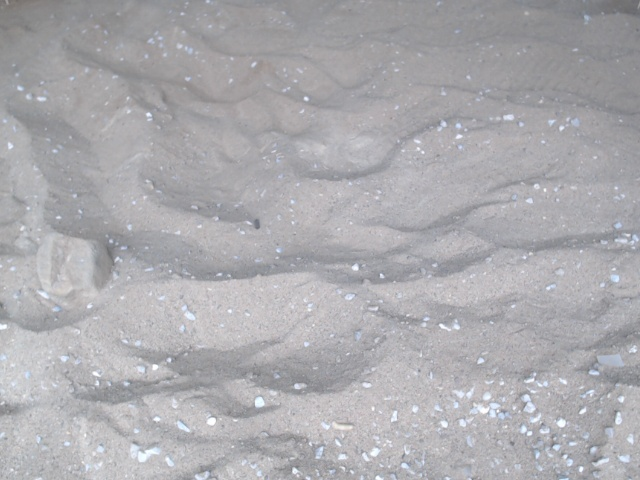rock: (29, 222, 122, 316)
